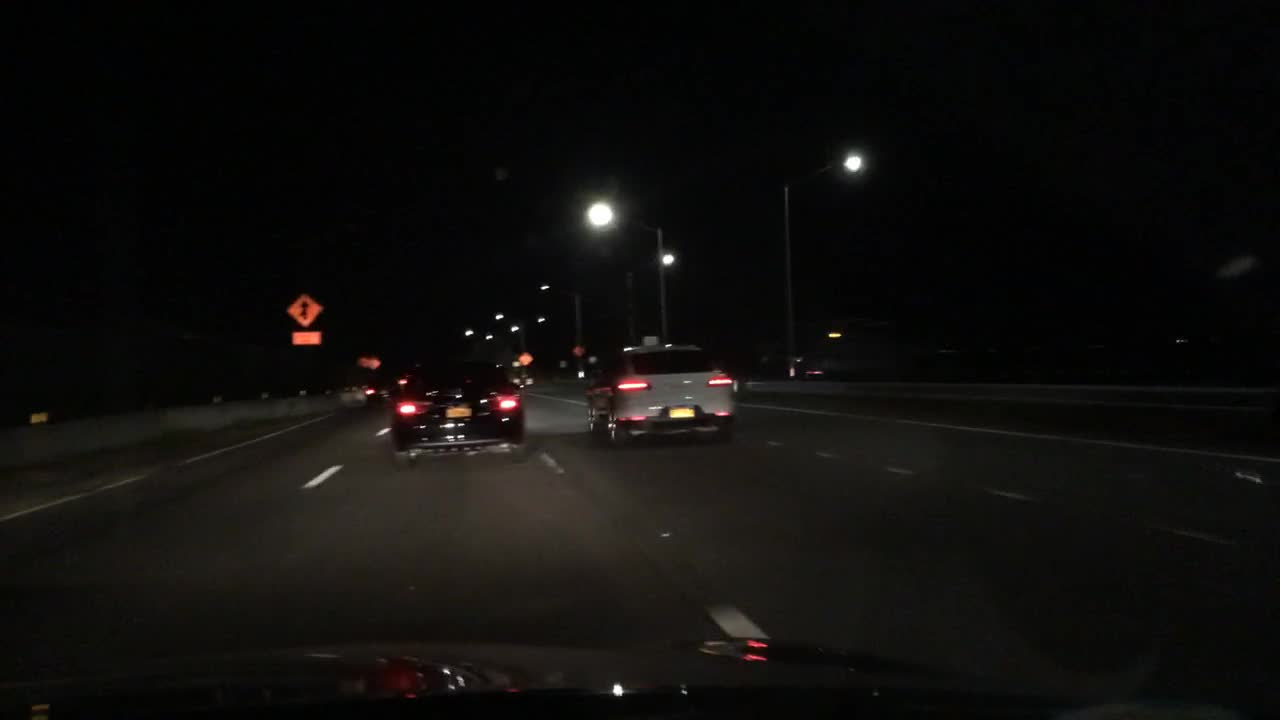car: (583, 343, 738, 451), (387, 353, 527, 469), (789, 325, 918, 383), (366, 374, 406, 408), (504, 362, 534, 394)
traffic sign: (286, 294, 324, 327), (291, 331, 321, 348), (355, 353, 383, 369), (516, 350, 536, 367), (26, 410, 48, 425), (642, 333, 660, 348), (569, 345, 586, 359)
